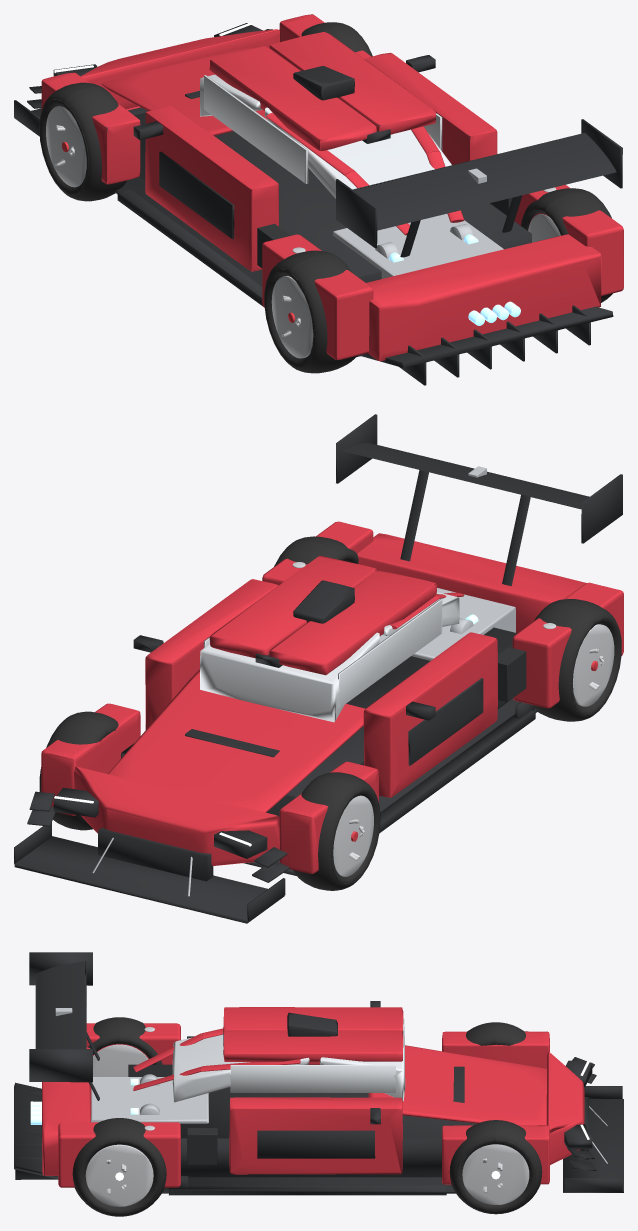
Rendered from hypercar_apex_gt3.glb.
3 views of the same model, one above another, from view 1: azimuth 30°, elevation 25°; view 2: azimuth 150°, elevation 25°; view 3: azimuth 270°, elevation 25° (orthographic). The views are drawn at different scales.
Visible parts, largest first — view 1: Hypercar_Roof_Canopy, Hypercar_Rear_Bumper, Hypercar_Active_Rear_Wing, Hypercar_Chassis_Monocoque, Hypercar_Door_Butterfly_Left, Hypercar_Wheel_RL, Hypercar_Wheel_FL, Hypercar_Rear_Haunch_Left, Hypercar_Rear_Diffuser, Hypercar_Door_Butterfly_Right, Hypercar_Front_Bumper_Fascia, Hypercar_Hood_Vented (+7 smaller); view 2: Hypercar_Roof_Canopy, Hypercar_Hood_Vented, Hypercar_Front_Bumper_Fascia, Hypercar_Door_Butterfly_Left, Hypercar_Front_Splitter, Hypercar_Active_Rear_Wing, Hypercar_Rear_Bumper, Hypercar_Chassis_Monocoque, Hypercar_Wheel_RL, Hypercar_Wheel_FL, Hypercar_Rear_Haunch_Left, Hypercar_Door_Butterfly_Right (+6 smaller); view 3: Hypercar_Roof_Canopy, Hypercar_Door_Butterfly_Right, Hypercar_Chassis_Monocoque, Hypercar_Hood_Vented, Hypercar_Active_Rear_Wing, Hypercar_Wheel_RR, Hypercar_Wheel_FR, Hypercar_Front_Splitter, Hypercar_Rear_Haunch_Right, Hypercar_Front_Bumper_Fascia, Hypercar_Rocker_Skirt_Right, Hypercar_Rear_Bumper (+6 smaller).
Boxes of the visible parts, box(x1,y1,x2,y2) form: Hypercar_Roof_Canopy: box(200, 32, 464, 235); Hypercar_Rear_Bumper: box(366, 234, 601, 361); Hypercar_Active_Rear_Wing: box(336, 119, 622, 257); Hypercar_Chassis_Monocoque: box(115, 112, 531, 356); Hypercar_Door_Butterfly_Left: box(133, 106, 278, 271); Hypercar_Wheel_RL: box(264, 250, 356, 373); Hypercar_Wheel_FL: box(39, 82, 126, 201); Hypercar_Rear_Haunch_Left: box(257, 223, 373, 359); Hypercar_Rear_Diffuser: box(359, 305, 613, 385); Hypercar_Door_Butterfly_Right: box(364, 52, 497, 164); Hypercar_Front_Bumper_Fascia: box(53, 23, 279, 110); Hypercar_Hood_Vented: box(101, 46, 267, 135); Hypercar_Roof_Canopy: box(200, 555, 464, 722); Hypercar_Hood_Vented: box(108, 670, 365, 812); Hypercar_Front_Bumper_Fascia: box(53, 766, 279, 881); Hypercar_Door_Butterfly_Left: box(363, 632, 497, 797); Hypercar_Front_Splitter: box(14, 791, 289, 923); Hypercar_Active_Rear_Wing: box(336, 414, 622, 586); Hypercar_Rear_Bumper: box(357, 533, 586, 633); Hypercar_Chassis_Monocoque: box(88, 588, 537, 875); Hypercar_Wheel_RL: box(534, 599, 621, 721); Hypercar_Wheel_FL: box(293, 772, 380, 890); Hypercar_Rear_Haunch_Left: box(498, 582, 623, 708); Hypercar_Door_Butterfly_Right: box(133, 579, 278, 729); Hypercar_Roof_Canopy: box(133, 1007, 405, 1102); Hypercar_Door_Butterfly_Right: box(229, 1097, 402, 1174); Hypercar_Chassis_Monocoque: box(91, 1064, 476, 1193); Hypercar_Hood_Vented: box(368, 1045, 546, 1125); Hypercar_Active_Rear_Wing: box(29, 952, 99, 1100); Hypercar_Wheel_RR: box(72, 1118, 166, 1216); Hypercar_Wheel_FR: box(449, 1120, 542, 1214); Hypercar_Front_Splitter: box(563, 1057, 623, 1192); Hypercar_Rear_Haunch_Right: box(58, 1122, 217, 1187); Hypercar_Front_Bumper_Fascia: box(546, 1051, 592, 1164); Hypercar_Rocker_Skirt_Right: box(163, 1176, 446, 1195); Hypercar_Rear_Bumper: box(30, 1047, 91, 1175).
Bounding box in the file's own units: 2.11 × 1.27 × 4.38.
